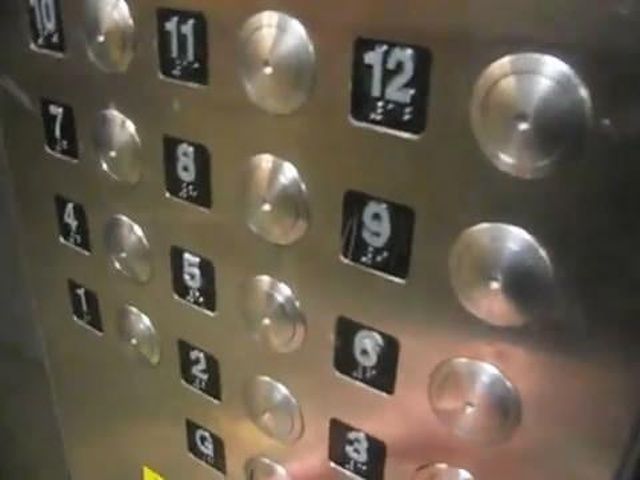1: (61, 273, 108, 341)
11: (150, 3, 216, 92)
12: (342, 30, 437, 144)
2: (173, 334, 227, 406)
3: (322, 411, 392, 480)
4: (47, 187, 94, 262)
5: (164, 240, 223, 318)
7: (32, 91, 85, 167)
8: (157, 128, 219, 217)
9: (333, 185, 420, 286)
G: (179, 414, 233, 479)
blur: (327, 309, 405, 402)
empty: (458, 44, 601, 187), (438, 216, 561, 333), (228, 6, 321, 123), (421, 350, 527, 451), (228, 147, 316, 251), (231, 267, 314, 361), (236, 369, 309, 450), (87, 104, 146, 190), (97, 207, 157, 289), (79, 1, 140, 74), (111, 297, 166, 375)
